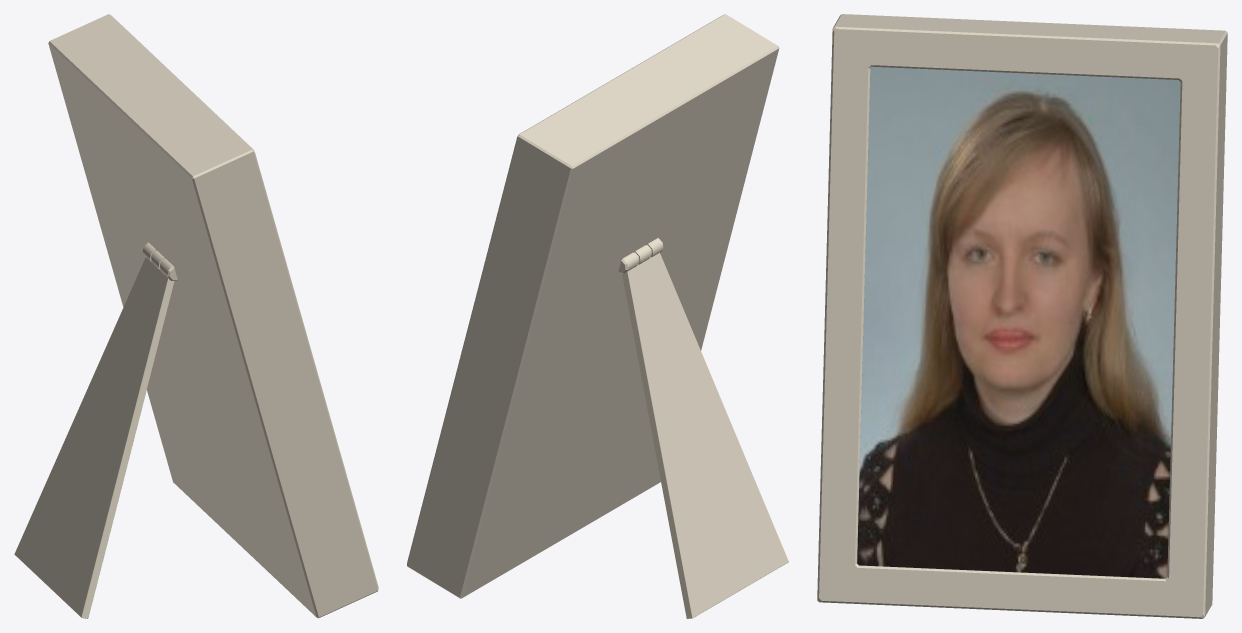
The model's file is Image3.fbx.
3 views of the same model, side by side, from view 1: azimuth 30°, elevation 25°; view 2: azimuth 150°, elevation 25°; view 3: azimuth 270°, elevation 25° (orthographic). The views are drawn at different scales.
Parts seen in each view (by area): view 1: Marco001; view 2: Marco001; view 3: Foto001, Marco001.
Boxes of the visible parts, left/top/right/bottom form: Marco001: left=14, top=14, right=378, bottom=618; Marco001: left=407, top=14, right=788, bottom=618; Foto001: left=857, top=66, right=1180, bottom=578; Marco001: left=817, top=14, right=1227, bottom=618.
Size of the model in its own units: 92.45 by 159 by 112.
Materials: 2 (1 with a texture image).
